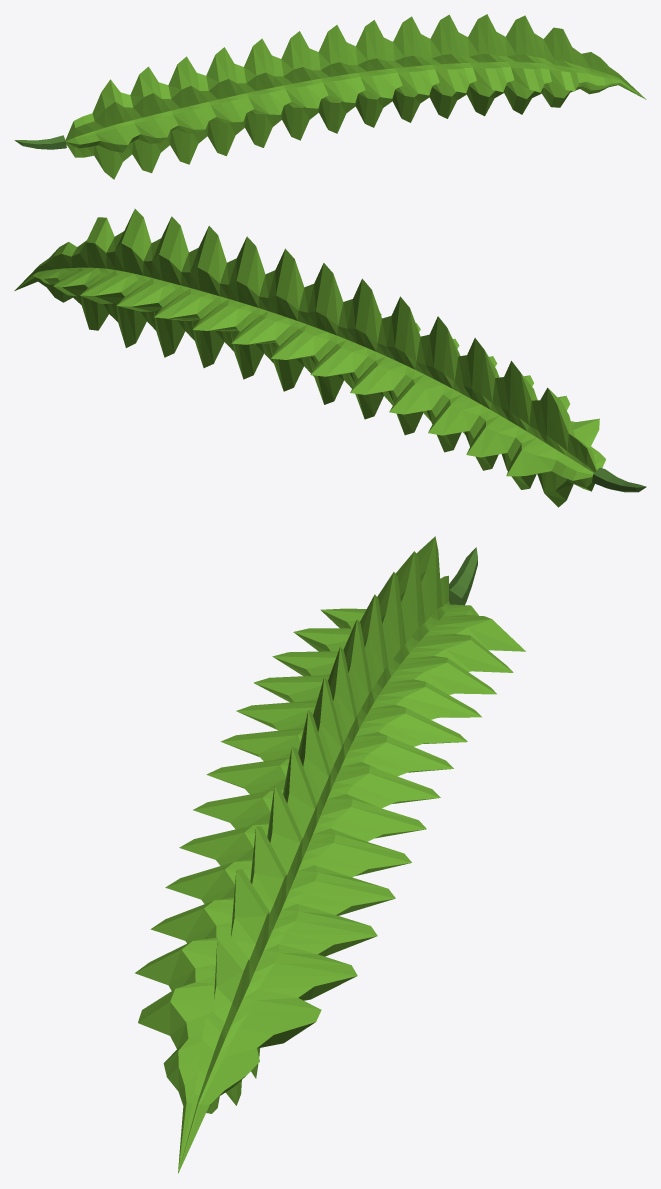
Rendered from bean-pod.glb.
3 renders of one model, top to bottom at view 1: azimuth 30°, elevation 25°; view 2: azimuth 150°, elevation 25°; view 3: azimuth 270°, elevation 25°, orthographic. The views are drawn at different scales.
Visible parts, largest first — view 1: Pod, Pod_stem; view 2: Pod, Pod_stem; view 3: Pod, Pod_stem.
Part boxes in pixels (x1,y1,x2,y2): Pod: (65, 14, 646, 179); Pod_stem: (14, 135, 66, 149); Pod: (14, 209, 605, 507); Pod_stem: (592, 467, 646, 492); Pod: (135, 536, 525, 1173); Pod_stem: (449, 547, 477, 605).
Size of the model in its own units: 0.2402 by 0.0502 by 0.073.
